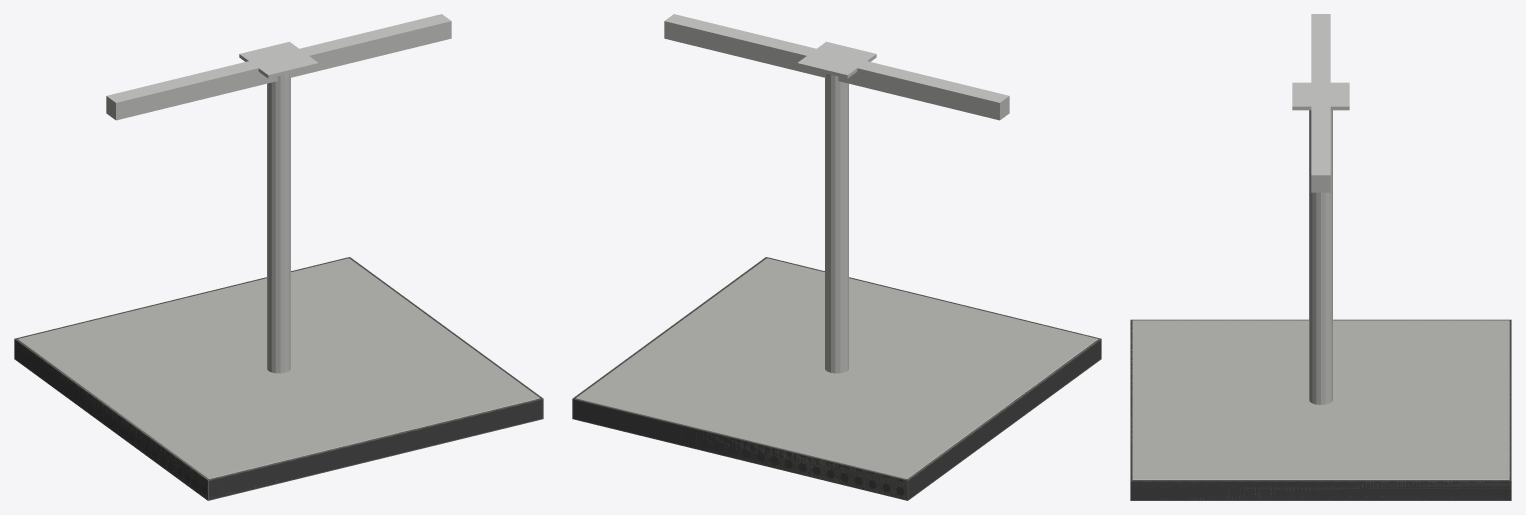
Rendered from floor.glb.
3 views of the same model, side by side, from view 1: azimuth 30°, elevation 25°; view 2: azimuth 150°, elevation 25°; view 3: azimuth 270°, elevation 25° (orthographic).
Parts seen in each view (by area): view 1: tile_solid, pedestal, stringer, tile_perf; view 2: tile_solid, pedestal, stringer, tile_perf; view 3: tile_solid, pedestal, stringer, tile_perf.
Part boxes in pixels (x1,y1,x2,y2): tile_solid: (15,257,542,499); pedestal: (239,41,318,373); stringer: (106,14,451,120); tile_perf: (14,257,543,500); tile_solid: (573,257,1100,499); pedestal: (797,41,876,373); stringer: (664,14,1009,120); tile_perf: (572,257,1101,500); tile_solid: (1131,320,1510,499); pedestal: (1292,82,1349,404); stringer: (1311,14,1330,192); tile_perf: (1130,319,1511,500).
Bounding box in the file's own units: 0.6 × 0.565 × 0.6.
4 materials, 1 textured.
